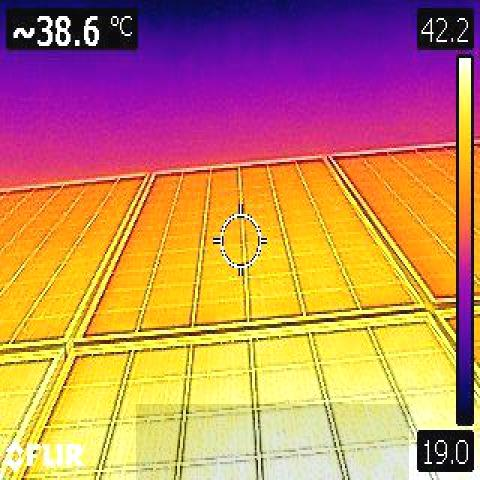fault: (136, 404, 409, 480)
